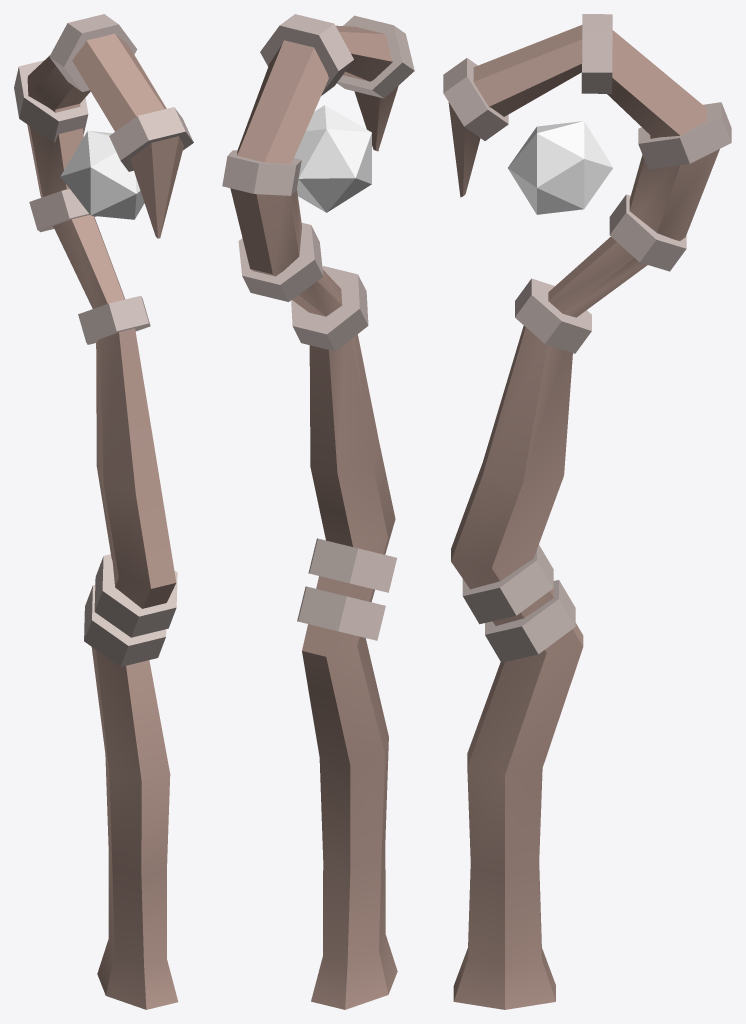
The model's file is vara.fbx.
3 renders of one model, left to right at view 1: azimuth 30°, elevation 25°; view 2: azimuth 150°, elevation 25°; view 3: azimuth 270°, elevation 25°, orthographic. The views are drawn at different scales.
Parts seen in each view (by area): view 1: pCylinder2, pPlatonic1, pCylinder4, pCylinder3, pCylinder9, pCylinder7, pCylinder8, pCylinder5, pCylinder6; view 2: pCylinder2, pPlatonic1, pCylinder5, pCylinder3, pCylinder4, pCylinder8, pCylinder6, pCylinder9, pCylinder7; view 3: pCylinder2, pPlatonic1, pCylinder3, pCylinder4, pCylinder7, pCylinder5, pCylinder6, pCylinder9, pCylinder8.
Part boxes in pixels (x1,y1,x2,y2): pCylinder2: (27, 33, 183, 1009); pPlatonic1: (60, 131, 144, 219); pCylinder4: (94, 554, 177, 637); pCylinder3: (84, 585, 166, 666); pCylinder9: (109, 107, 193, 171); pCylinder7: (14, 60, 88, 142); pCylinder8: (49, 14, 137, 91); pCylinder5: (78, 295, 150, 344); pCylinder6: (29, 189, 96, 232); pCylinder2: (230, 25, 398, 1009); pPlatonic1: (294, 105, 371, 212); pCylinder5: (291, 266, 368, 351); pCylinder3: (297, 586, 385, 640); pCylinder4: (308, 538, 396, 592); pCylinder8: (260, 14, 353, 95); pCylinder6: (238, 223, 323, 301); pCylinder9: (337, 15, 414, 98); pCylinder7: (222, 150, 301, 195); pCylinder2: (448, 25, 719, 1009); pPlatonic1: (508, 121, 612, 214); pCylinder3: (485, 580, 575, 662); pCylinder4: (462, 545, 553, 624); pCylinder7: (638, 102, 731, 169); pCylinder5: (515, 278, 591, 353); pCylinder6: (609, 194, 686, 271); pCylinder9: (443, 58, 508, 140); pCylinder8: (581, 14, 612, 93).
Size of the model in its own units: 1.79 by 20.24 by 5.45.
